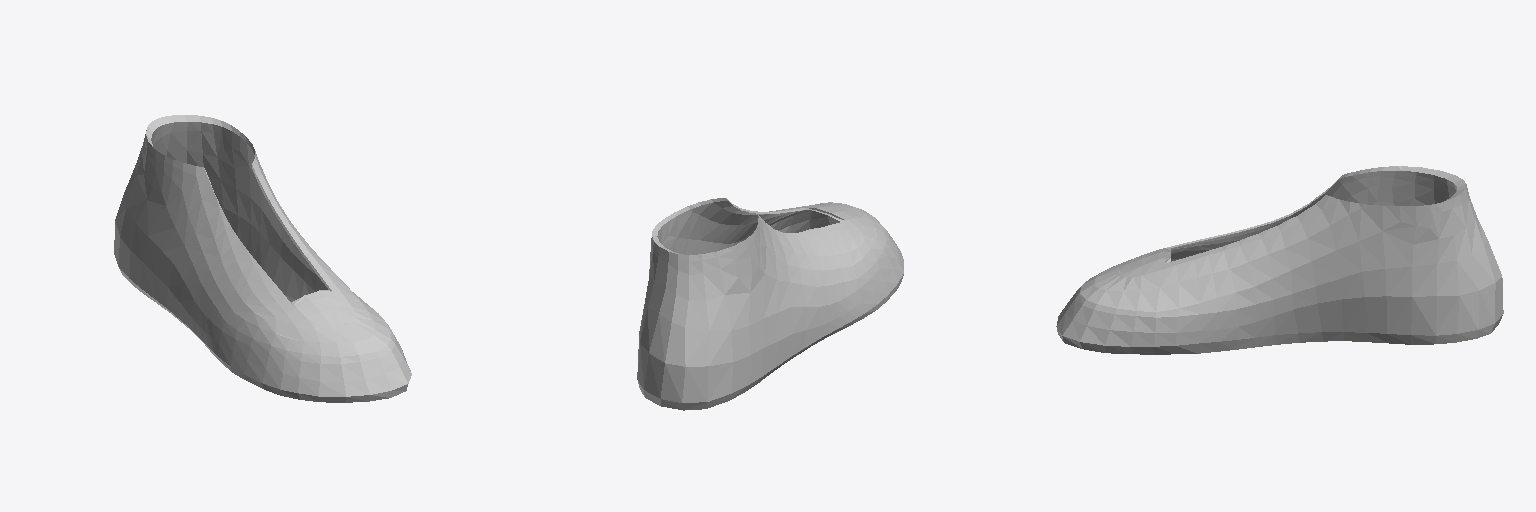
The model's file is shoe_surface.obj.
3 views of the same model, side by side, from view 1: azimuth 30°, elevation 25°; view 2: azimuth 150°, elevation 25°; view 3: azimuth 270°, elevation 25° (orthographic).
Parts seen in each view (by area): view 1: outer.001; view 2: outer.001; view 3: outer.001.
Boxes of the visible parts, x1=… form: outer.001: x1=114, y1=115, x2=411, y2=402; outer.001: x1=637, y1=198, x2=903, y2=410; outer.001: x1=1056, y1=166, x2=1503, y2=354.
Bounding box in the file's own units: 10.2 × 10.2 × 29.2.